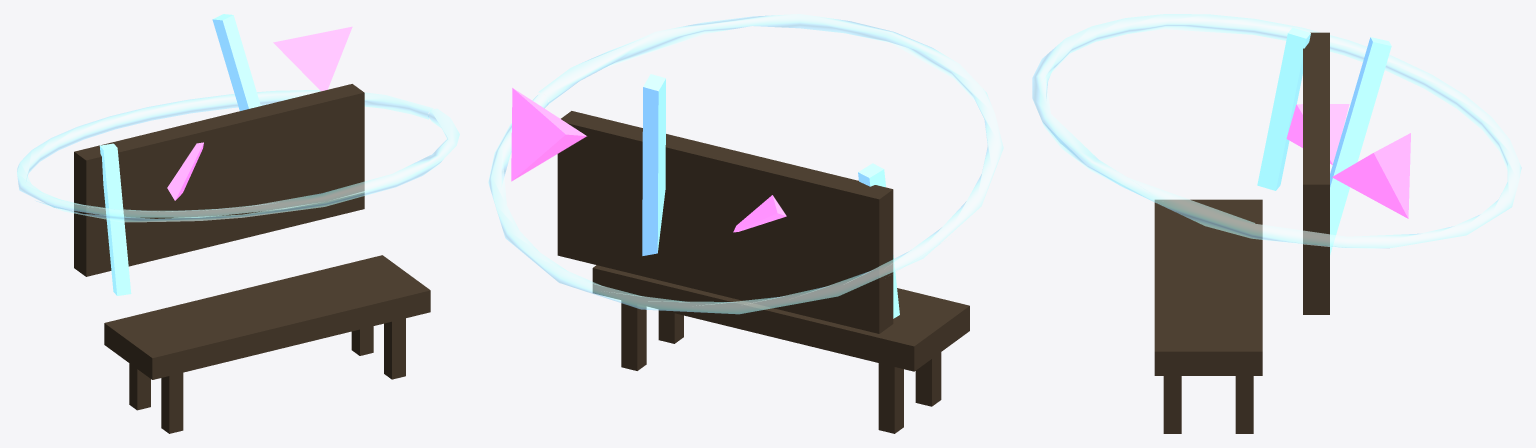
Rendered from sci-fi-bench.collider.glb.
3 views of the same model, side by side, from view 1: azimuth 30°, elevation 25°; view 2: azimuth 150°, elevation 25°; view 3: azimuth 270°, elevation 25° (orthographic). The views are drawn at different scales.
Visible parts, largest first — view 1: bench-growth-body, growth-halo, growth-0, growth-1; view 2: bench-growth-body, growth-halo, growth-0, growth-1; view 3: bench-growth-body, growth-halo, growth-0, growth-1.
Boxes of the visible parts, x1,y1,x2,y2 form: bench-growth-body: (74, 84, 430, 433); growth-halo: (17, 90, 459, 222); growth-0: (99, 14, 260, 295); growth-1: (167, 26, 352, 200); bench-growth-body: (557, 111, 969, 433); growth-halo: (488, 14, 1003, 314); growth-0: (642, 74, 899, 318); growth-1: (511, 88, 786, 232); bench-growth-body: (1154, 32, 1329, 433); growth-halo: (1032, 14, 1521, 248); growth-0: (1257, 27, 1391, 254); growth-1: (1286, 104, 1410, 218).
Bounding box in the file's own units: 2.78 × 2.14 × 2.72.
